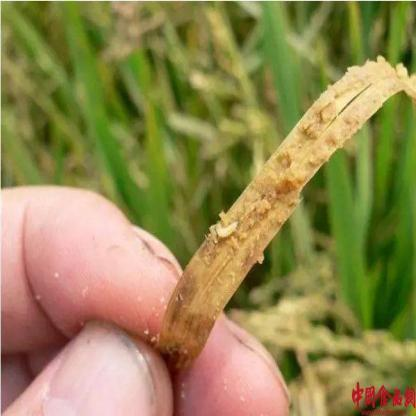whorl-maggot: (211, 211, 243, 244)
